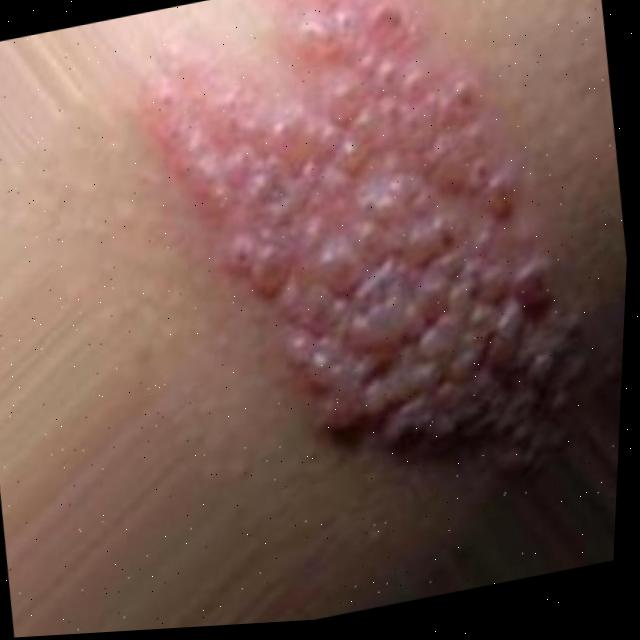Shingles: (117, 0, 606, 530)
